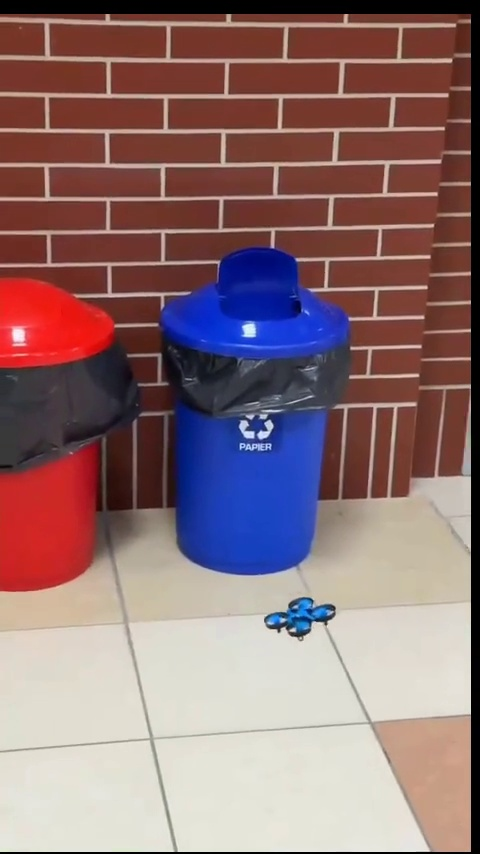drone: (263, 595, 341, 639)
